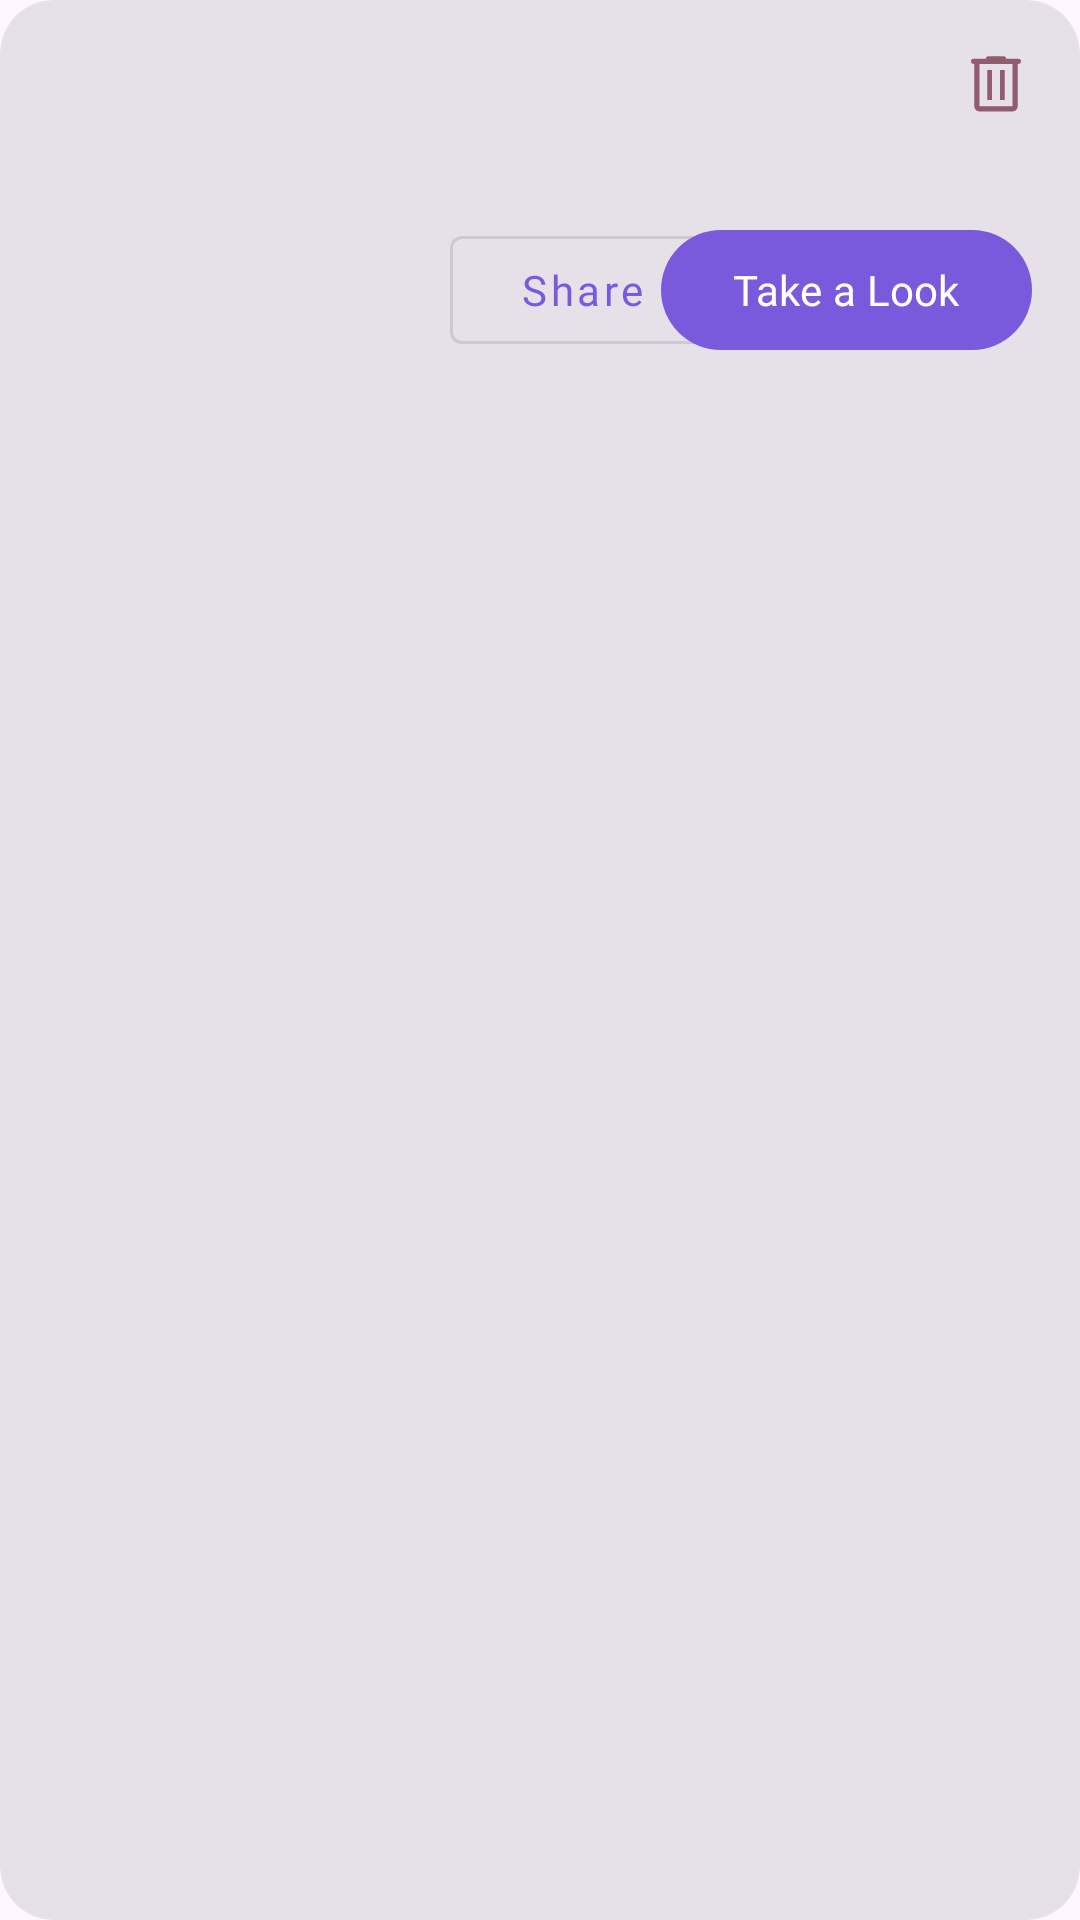

Icons on this 1080px x 1920px Android screen, each with the point to tap as (x,y):
delete: (996,84)
